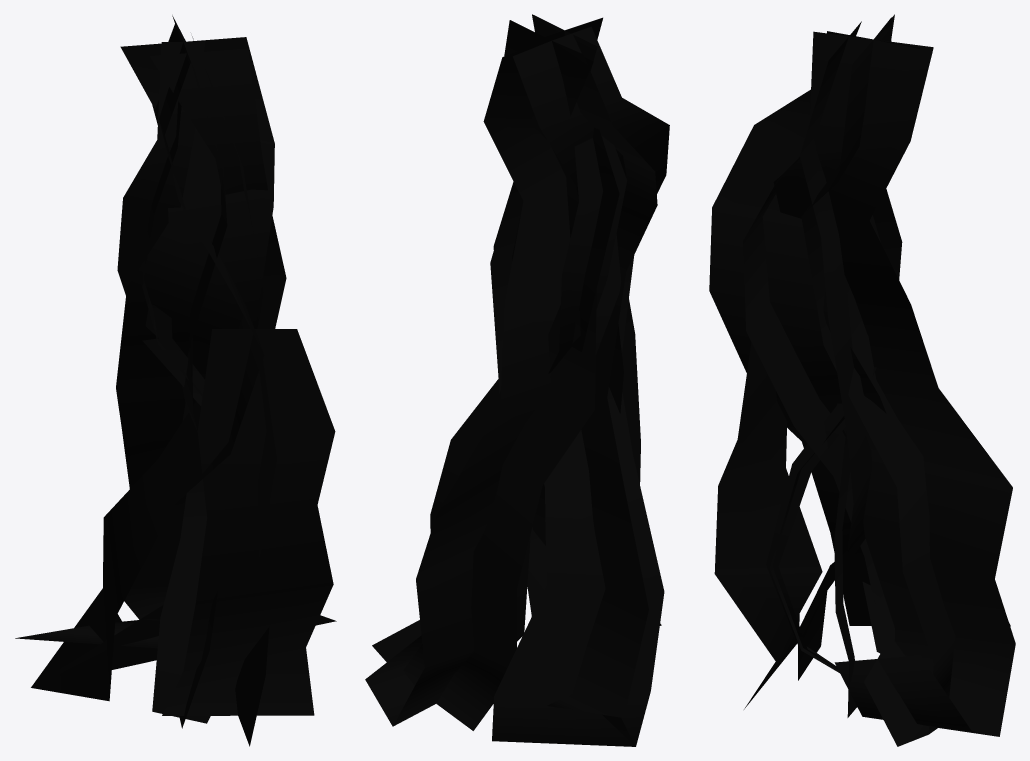
Rendered from eff_enem_MI_302_thunder01.obj.
The picture shows the model from 3 angles, left to right: view 1: azimuth 30°, elevation 25°; view 2: azimuth 150°, elevation 25°; view 3: azimuth 270°, elevation 25°; orthographic projection.
Visible parts, largest first — view 1: polygon2, polygon11, polygon1, polygon7, polygon4, polygon3, polygon10, polygon0, polygon5, polygon6; view 2: polygon1, polygon10, polygon11, polygon0, polygon5, polygon6, polygon4, polygon3, polygon7, polygon2; view 3: polygon10, polygon1, polygon11, polygon2, polygon7, polygon0, polygon5, polygon9, polygon4.
Part boxes in pixels (bbox=[...]): polygon2: bbox=[162, 329, 335, 715]; polygon11: bbox=[116, 37, 336, 625]; polygon1: bbox=[31, 22, 264, 701]; polygon7: bbox=[150, 48, 286, 723]; polygon4: bbox=[117, 42, 204, 406]; polygon3: bbox=[235, 360, 276, 746]; polygon10: bbox=[172, 15, 227, 431]; polygon0: bbox=[15, 619, 159, 648]; polygon5: bbox=[142, 101, 202, 396]; polygon6: bbox=[179, 36, 263, 728]; polygon1: bbox=[492, 26, 669, 746]; polygon10: bbox=[365, 24, 621, 726]; polygon11: bbox=[372, 20, 596, 730]; polygon0: bbox=[547, 41, 657, 717]; polygon5: bbox=[548, 135, 627, 373]; polygon6: bbox=[490, 17, 602, 589]; polygon4: bbox=[572, 127, 619, 351]; polygon3: bbox=[527, 299, 661, 625]; polygon7: bbox=[493, 14, 597, 545]; polygon2: bbox=[609, 324, 623, 413]; polygon10: bbox=[773, 31, 1015, 736]; polygon1: bbox=[709, 31, 1010, 653]; polygon11: bbox=[801, 14, 955, 746]; polygon2: bbox=[714, 342, 822, 709]; polygon7: bbox=[798, 21, 871, 680]; polygon0: bbox=[743, 17, 891, 647]; polygon5: bbox=[766, 35, 902, 669]; polygon9: bbox=[834, 431, 856, 717]; polygon4: bbox=[770, 215, 880, 672].
Size of the model in its own units: 94.27 by 208 by 90.65.
Materials: 3 (3 with a texture image).
